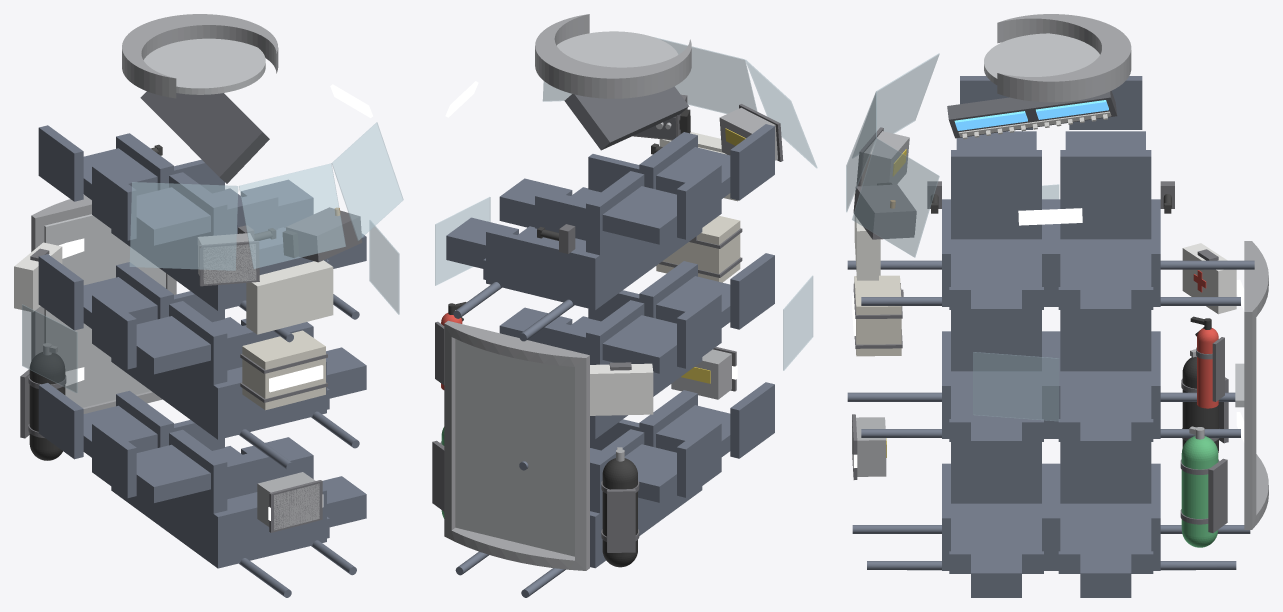
Rendered from cmd07_mav_cabin_cutaway.glb.
The picture shows the model from 3 angles, left to right: view 1: azimuth 30°, elevation 25°; view 2: azimuth 150°, elevation 25°; view 3: azimuth 270°, elevation 25°; orthographic projection. The views are drawn at different scales.
Visible parts, largest first — view 1: window_glass_inner, seat_1, seat_3, seat_5, seat_6, seat_2, hatch_door_1, seat_4, main_panel, hatch_tunnel_2, hatch_door_2, stowage_lockers (+12 smaller); view 2: hatch_door_1, seat_6, hatch_tunnel_1, window_glass_inner, seat_5, seat_4, seat_3, seat_2, seat_1, hatch_tunnel_2, main_panel, hatch_door_2 (+9 smaller); view 3: seat_6, seat_5, window_glass_inner, seat_3, seat_1, seat_2, seat_4, hatch_tunnel_2, hatch_tunnel_1, hatch_door_2, eq19_1_bag, eq09_1_cylinder (+14 smaller).
Boxes of the visible parts, bbox=[...] form: window_glass_inner: bbox=[22, 122, 403, 393]; seat_1: bbox=[92, 422, 366, 597]; seat_3: bbox=[92, 293, 366, 470]; seat_5: bbox=[92, 164, 366, 342]; seat_6: bbox=[38, 125, 313, 271]; seat_2: bbox=[38, 383, 313, 529]; hatch_door_1: bbox=[44, 214, 165, 407]; seat_4: bbox=[38, 254, 313, 400]; main_panel: bbox=[140, 91, 269, 183]; hatch_tunnel_2: bbox=[122, 14, 278, 98]; hatch_door_2: bbox=[143, 38, 265, 94]; stowage_lockers: bbox=[246, 260, 333, 334]; hatch_door_1: bbox=[455, 339, 574, 556]; seat_6: bbox=[446, 163, 721, 341]; hatch_tunnel_1: bbox=[444, 320, 589, 570]; window_glass_inner: bbox=[435, 37, 817, 370]; seat_5: bbox=[499, 124, 774, 270]; seat_4: bbox=[519, 292, 721, 470]; seat_3: bbox=[499, 253, 774, 396]; seat_2: bbox=[455, 421, 721, 597]; seat_1: bbox=[590, 382, 774, 528]; hatch_tunnel_2: bbox=[535, 14, 691, 98]; main_panel: bbox=[564, 86, 689, 150]; hatch_door_2: bbox=[557, 31, 678, 67]; seat_6: bbox=[1051, 76, 1254, 333]; seat_5: bbox=[847, 76, 1051, 333]; window_glass_inner: bbox=[846, 53, 1059, 421]; seat_3: bbox=[847, 310, 1051, 465]; seat_1: bbox=[852, 442, 1051, 597]; seat_2: bbox=[1051, 442, 1250, 597]; seat_4: bbox=[1051, 310, 1240, 465]; hatch_tunnel_2: bbox=[997, 14, 1131, 102]; hatch_tunnel_1: bbox=[1244, 241, 1268, 529]; hatch_door_2: bbox=[984, 33, 1099, 84]; eq19_1_bag: bbox=[854, 275, 901, 356]; eq09_1_cylinder: bbox=[1181, 436, 1218, 547].
Size of the model in its own units: 2.27 by 2.97 by 2.32.
